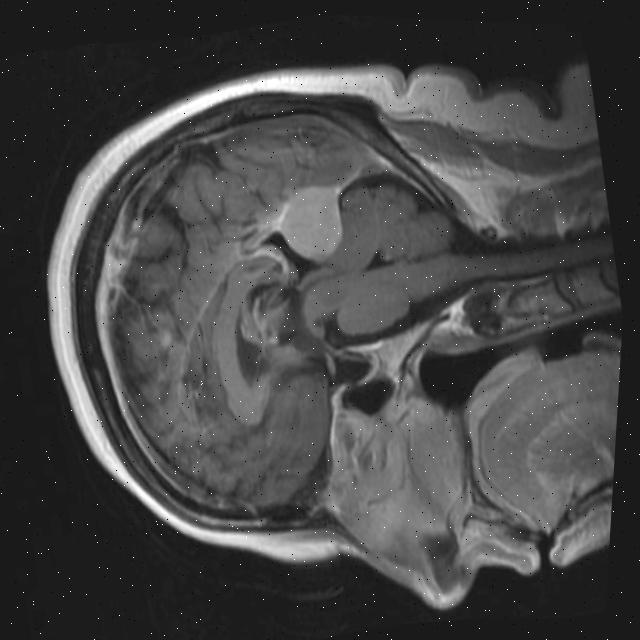Meningioma: (267, 177, 355, 269)
